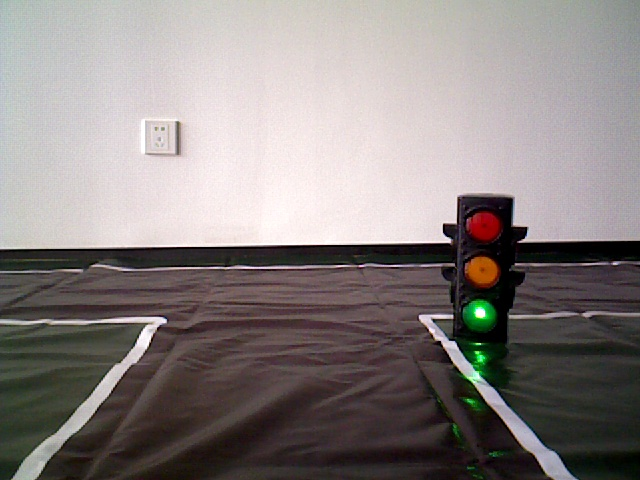green: (456, 202, 505, 334)
